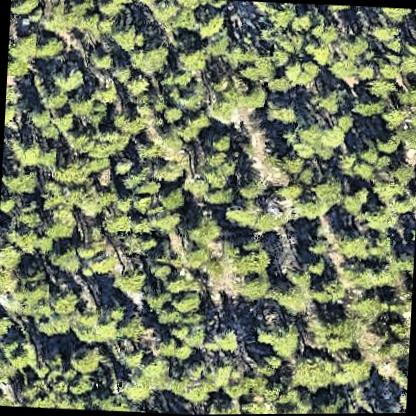tree-top: (308, 307, 358, 355), (255, 316, 305, 362), (11, 275, 55, 325), (296, 122, 348, 163), (289, 352, 339, 394), (94, 304, 143, 346), (216, 81, 270, 119), (66, 123, 118, 161), (364, 159, 410, 199), (228, 240, 272, 281), (44, 215, 78, 267), (380, 240, 414, 290), (302, 174, 342, 216), (0, 332, 36, 376), (168, 364, 208, 403), (335, 146, 376, 184), (79, 237, 115, 280), (182, 210, 222, 248), (62, 370, 100, 410), (9, 133, 48, 171), (7, 27, 46, 65), (126, 40, 168, 75), (18, 373, 60, 408), (334, 350, 372, 388), (80, 177, 118, 215), (292, 186, 332, 222), (46, 61, 86, 96), (196, 150, 237, 184), (205, 322, 243, 358), (42, 208, 80, 244), (338, 257, 379, 290), (176, 111, 218, 143), (64, 341, 104, 374), (54, 0, 94, 33), (314, 9, 350, 45), (29, 101, 63, 139), (336, 227, 372, 262), (112, 106, 148, 141), (66, 91, 102, 125), (46, 288, 80, 324), (172, 43, 209, 76), (3, 166, 41, 198), (111, 264, 149, 296), (282, 58, 320, 90), (208, 359, 246, 391), (223, 198, 260, 230), (48, 241, 82, 275), (264, 95, 300, 127), (357, 202, 393, 234), (307, 87, 343, 119), (192, 7, 226, 40), (138, 353, 172, 386), (52, 156, 88, 187), (45, 185, 82, 215), (7, 204, 42, 235), (120, 376, 153, 408), (148, 153, 182, 184), (242, 49, 274, 81), (270, 277, 304, 307), (167, 285, 200, 315), (310, 278, 346, 305), (155, 183, 186, 214), (154, 98, 184, 130), (356, 294, 388, 324), (349, 92, 382, 121), (102, 209, 135, 237), (363, 74, 396, 102), (276, 25, 306, 55), (181, 171, 211, 201), (32, 31, 64, 59), (248, 350, 281, 377), (235, 277, 270, 302), (96, 389, 134, 412), (259, 376, 289, 405), (368, 20, 399, 48), (146, 252, 175, 281), (235, 173, 266, 200), (385, 311, 411, 343), (266, 1, 298, 27), (305, 41, 335, 68), (276, 148, 306, 175), (287, 9, 316, 36), (172, 318, 203, 343), (110, 25, 138, 52), (184, 241, 211, 269), (379, 103, 408, 129), (374, 131, 401, 158), (0, 241, 22, 273), (142, 286, 170, 311), (210, 124, 234, 153), (202, 185, 232, 208), (202, 396, 238, 415), (301, 255, 328, 280), (294, 394, 327, 414), (378, 340, 408, 362), (374, 6, 410, 24), (110, 154, 134, 181), (151, 0, 179, 23), (88, 46, 114, 70), (396, 52, 416, 80), (125, 73, 148, 97), (101, 0, 127, 19), (172, 344, 194, 363), (12, 0, 41, 13), (0, 312, 11, 342)
